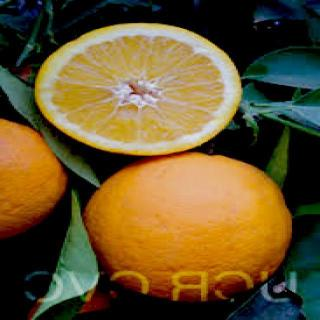orange: (82, 150, 295, 316), (31, 19, 251, 158), (0, 100, 71, 272)
